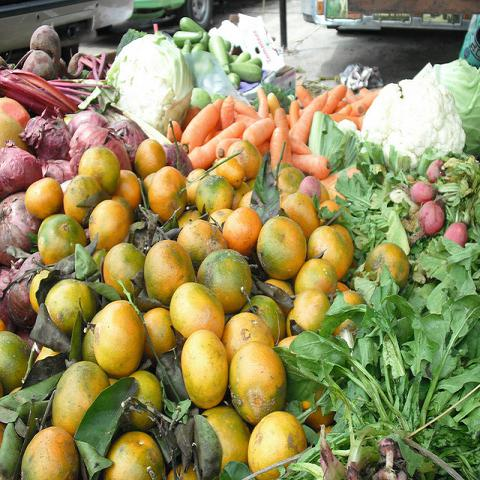car: (125, 0, 260, 28)
truck: (1, 0, 134, 50)
